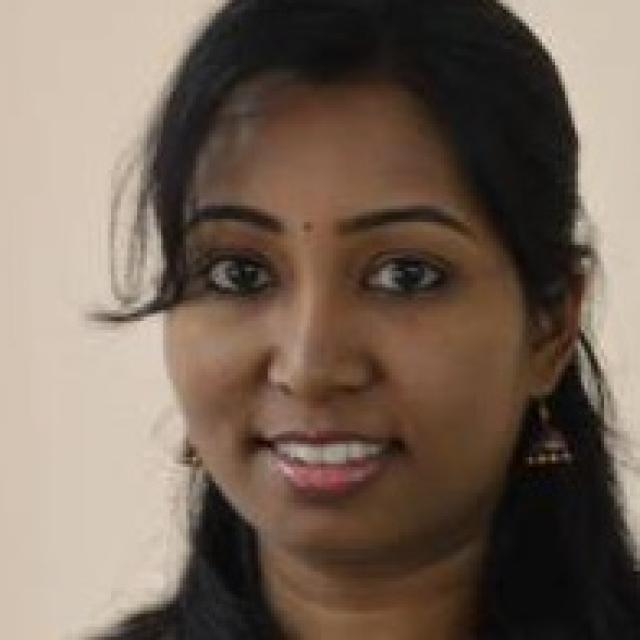Normal: (165, 69, 537, 557)
